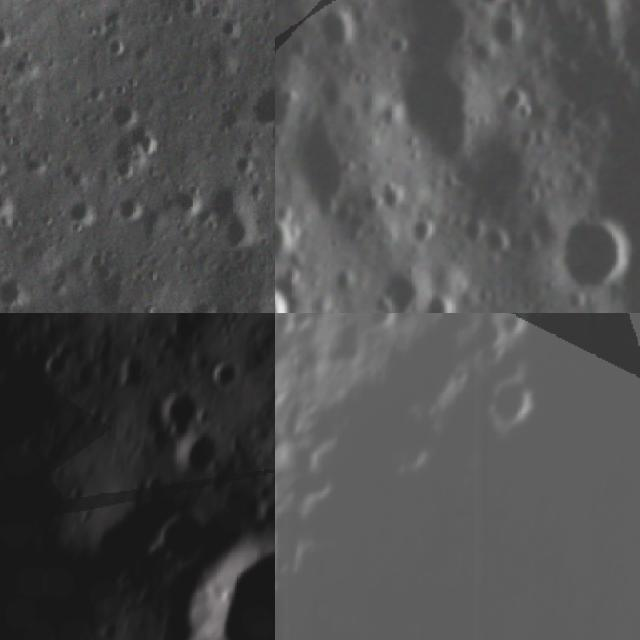crater: (159, 501, 275, 640), (372, 41, 492, 173), (539, 201, 640, 304), (141, 486, 227, 574), (462, 132, 544, 218), (0, 313, 52, 414), (166, 425, 232, 492), (146, 380, 208, 442), (482, 365, 536, 433), (303, 1, 365, 58), (202, 351, 254, 405), (275, 201, 309, 274), (482, 6, 530, 56), (606, 16, 640, 79), (371, 177, 412, 219), (474, 222, 514, 262), (351, 184, 387, 224), (68, 200, 105, 237), (378, 28, 416, 63), (413, 288, 462, 313), (403, 218, 438, 252), (106, 95, 140, 129), (456, 212, 487, 248), (460, 0, 522, 16), (510, 97, 538, 128), (329, 196, 354, 229), (178, 185, 199, 222)
